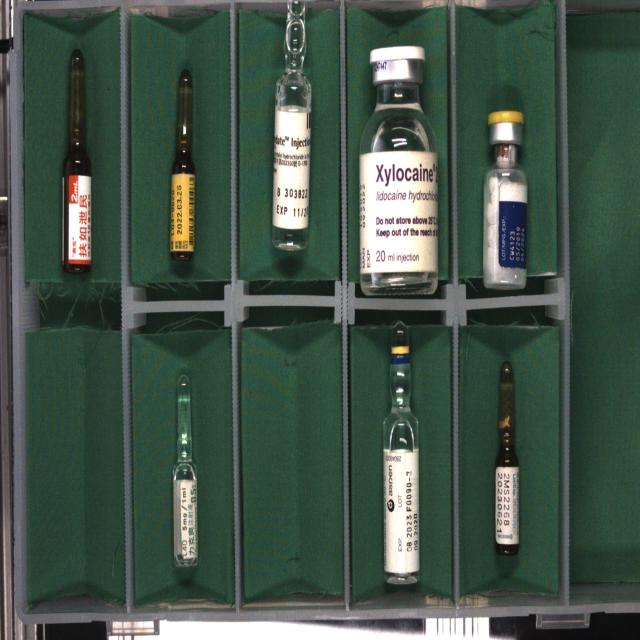Vials: (359, 46, 438, 294), (483, 110, 528, 289)
